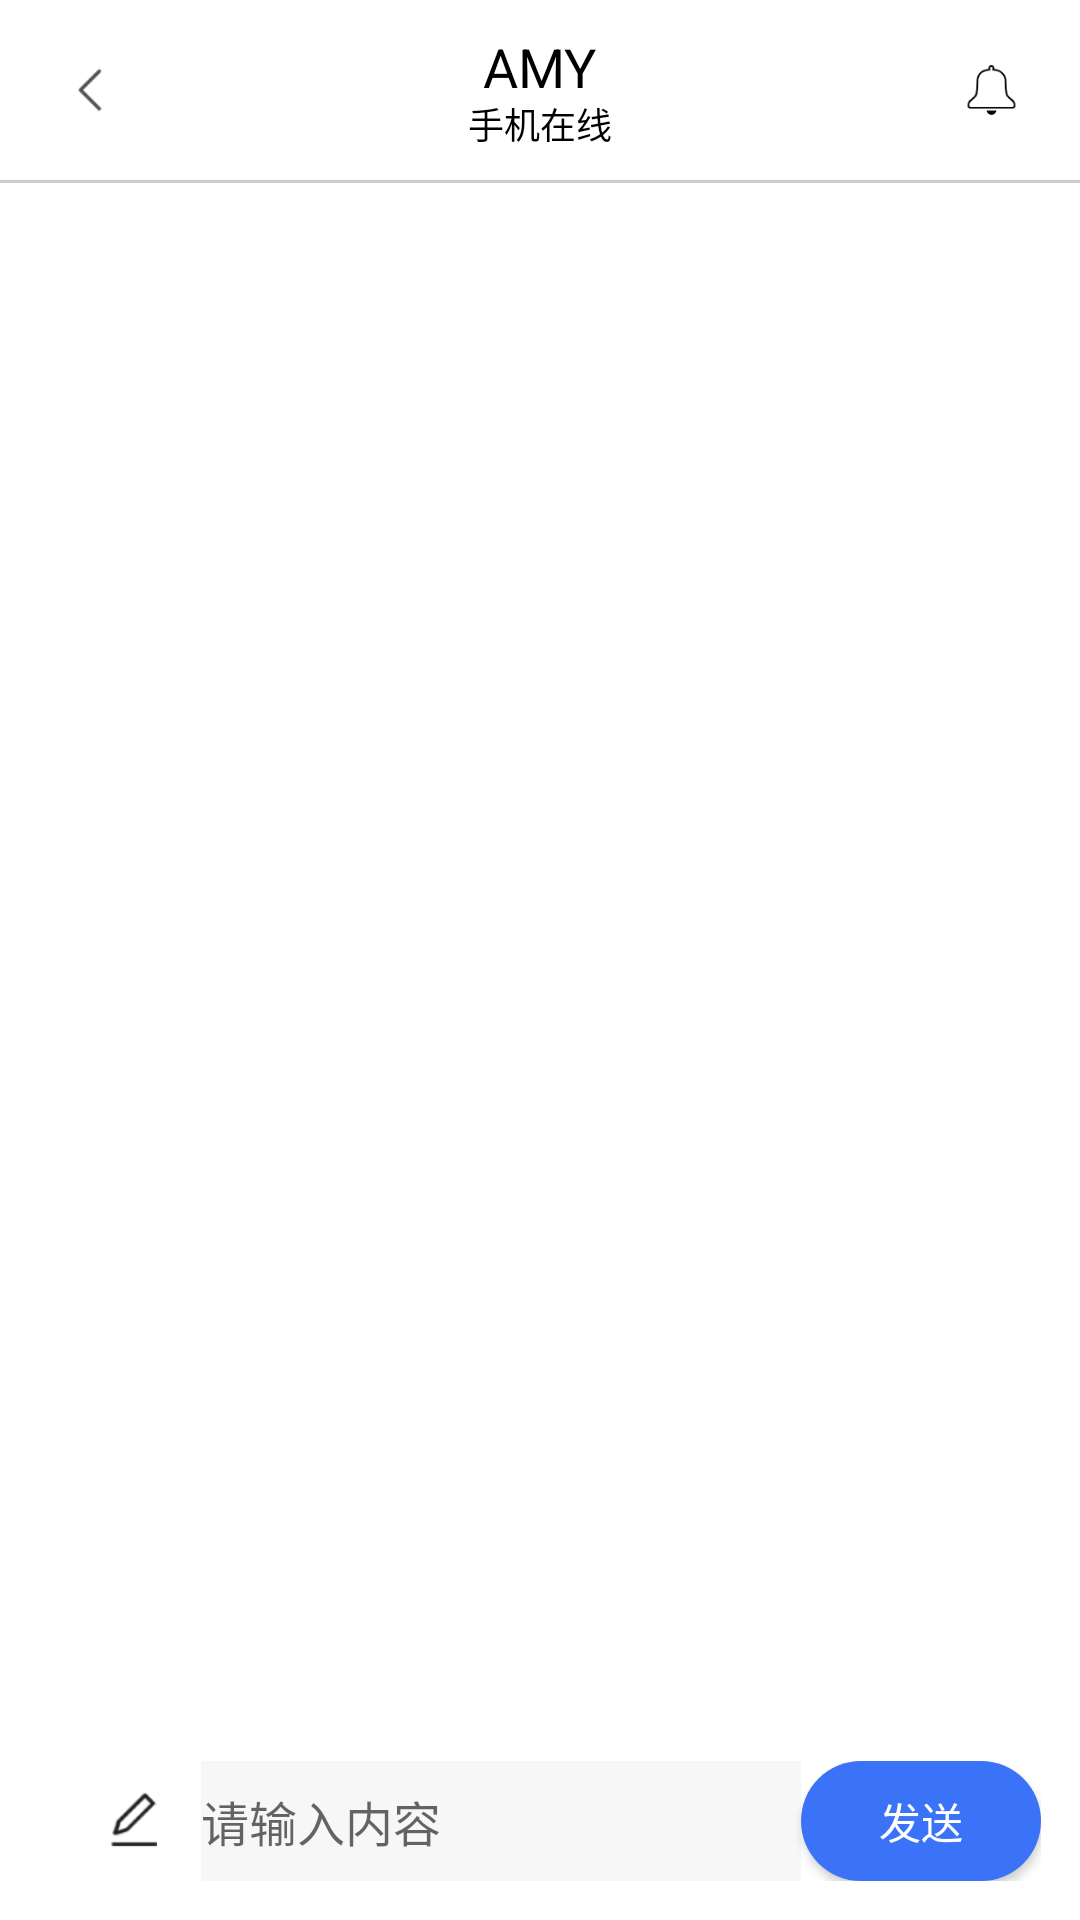

Icon click points for this 1080x1920 phone screenshot, format (x,y):
back: (90,90)
chatting left write: (134,1820)
